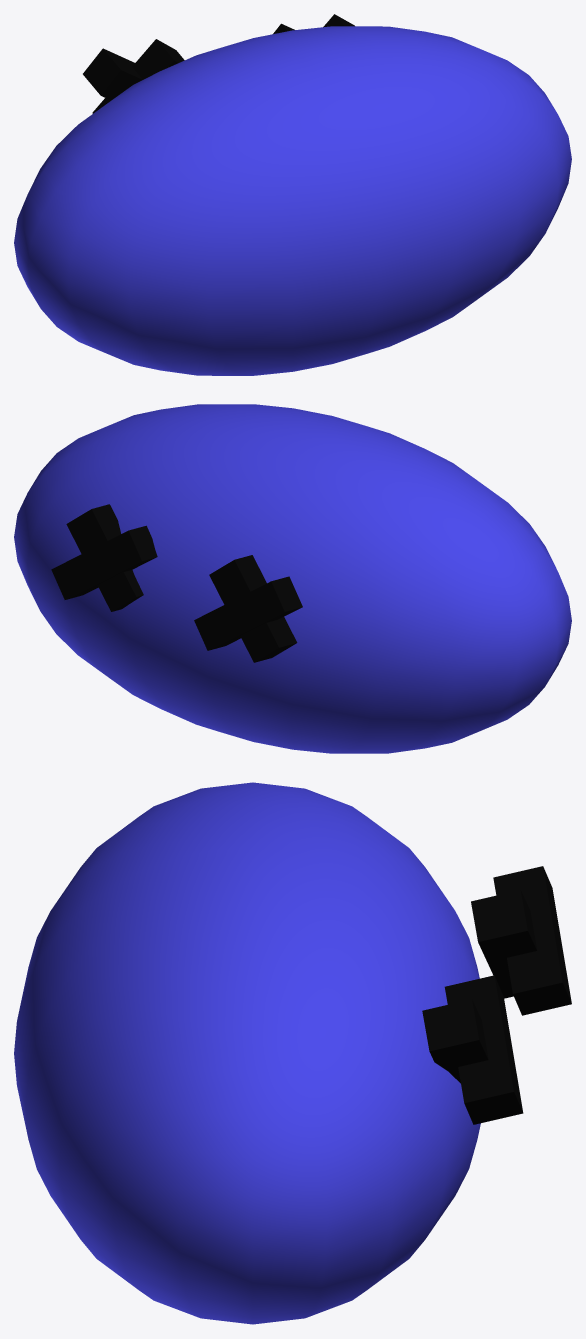
The model's file is GameOverModel1.fbx.
3 views of the same model, one above another, from view 1: azimuth 30°, elevation 25°; view 2: azimuth 150°, elevation 25°; view 3: azimuth 270°, elevation 25° (orthographic). The views are drawn at different scales.
Visible parts, largest first — view 1: pCube5; view 2: pCube5; view 3: pCube5.
Boxes of the visible parts, box(x1,y1,x2,y2) form: pCube5: box(14, 14, 571, 375); pCube5: box(14, 404, 571, 753); pCube5: box(14, 782, 571, 1324).
Bounding box in the file's own units: 5.12 × 2.78 × 3.41.
